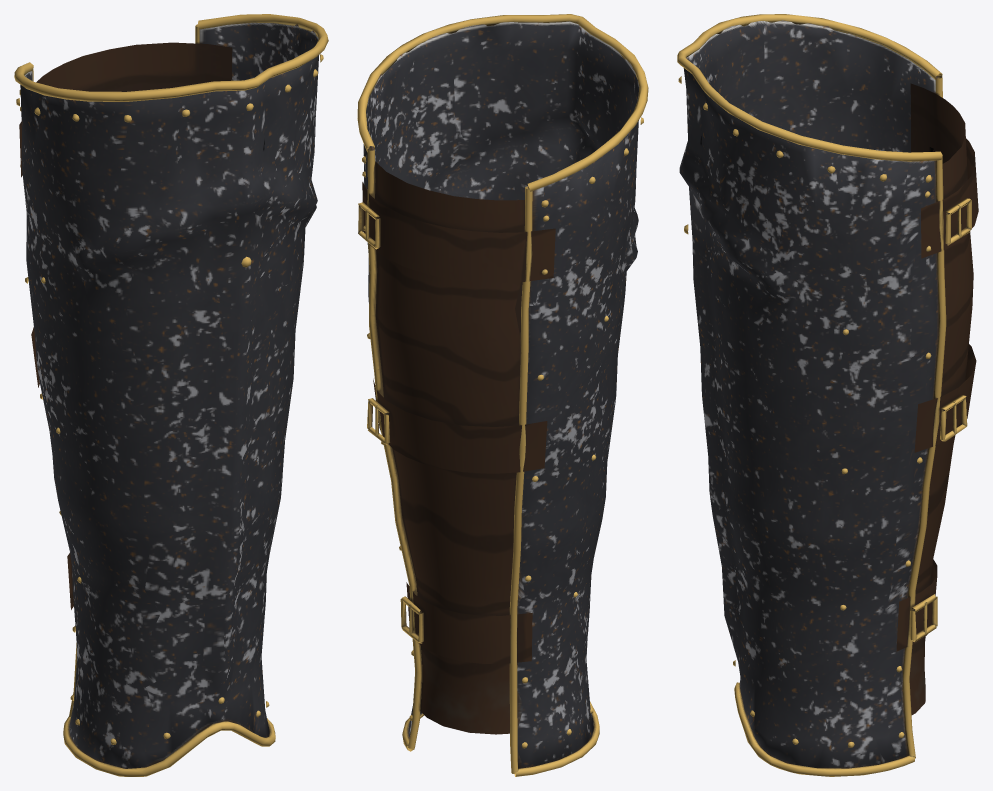
The model's file is SM_EagleGreaves_L_LOD2.fbx.
3 renders of one model, left to right at view 1: azimuth 30°, elevation 25°; view 2: azimuth 150°, elevation 25°; view 3: azimuth 270°, elevation 25°, orthographic. The views are drawn at different scales.
Visible parts, largest first — view 1: SM_EagleGreaves_L_LOD2; view 2: SM_EagleGreaves_L_LOD2; view 3: SM_EagleGreaves_L_LOD2.
Boxes of the visible parts, left/top/right/bottom form: SM_EagleGreaves_L_LOD2: left=14, top=14, right=328, bottom=776; SM_EagleGreaves_L_LOD2: left=357, top=14, right=648, bottom=776; SM_EagleGreaves_L_LOD2: left=677, top=14, right=978, bottom=776.
Size of the model in its own units: 0.1491 by 0.3745 by 0.1499.
